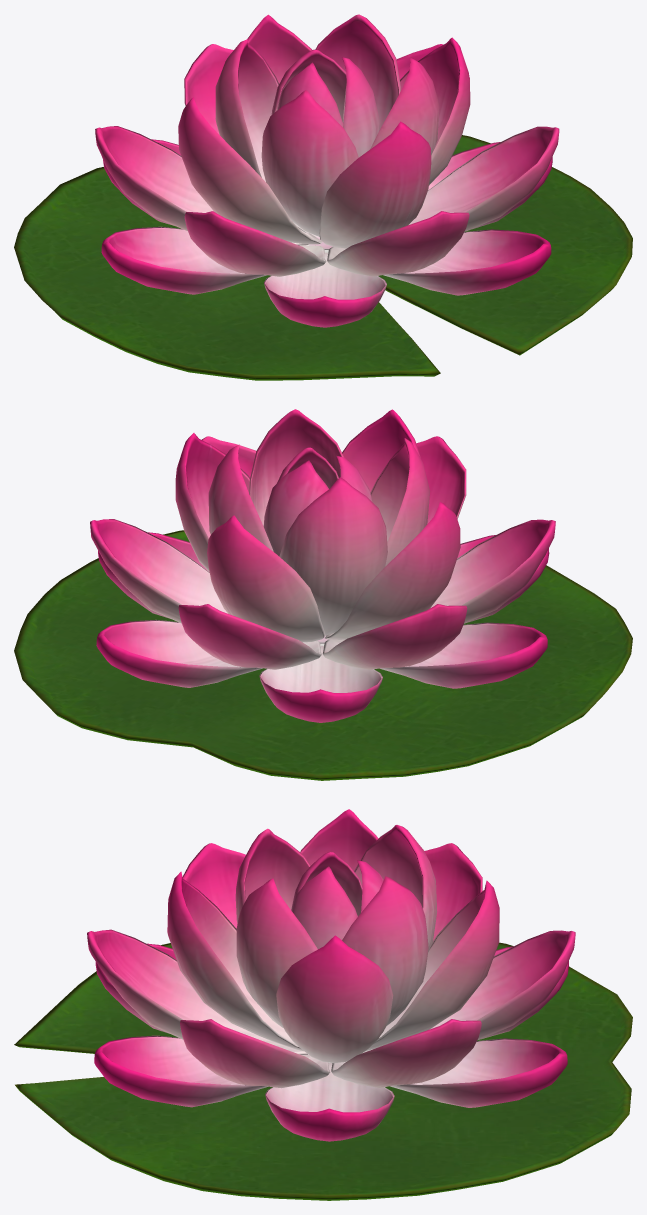
File: lotus_pond.glb
3 views of the same model, one above another, from view 1: azimuth 30°, elevation 25°; view 2: azimuth 150°, elevation 25°; view 3: azimuth 270°, elevation 25° (orthographic). The views are drawn at different scales.
Parts seen in each view (by area): view 1: defaultMaterial (×2); view 2: defaultMaterial (×2); view 3: defaultMaterial (×2).
Part boxes in pixels (x1,y1,x2,y2): defaultMaterial (×2): (14, 14, 632, 380); defaultMaterial (×2): (14, 409, 632, 780); defaultMaterial (×2): (14, 809, 632, 1200).
Bounding box in the file's own units: 0.581 × 0.2215 × 0.5599.
2 materials, 2 textured.
